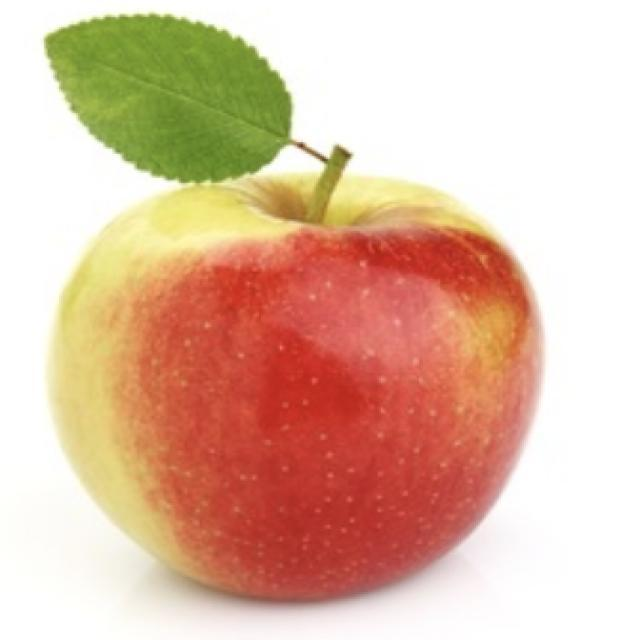Fresh Apple: (79, 194, 558, 608)
